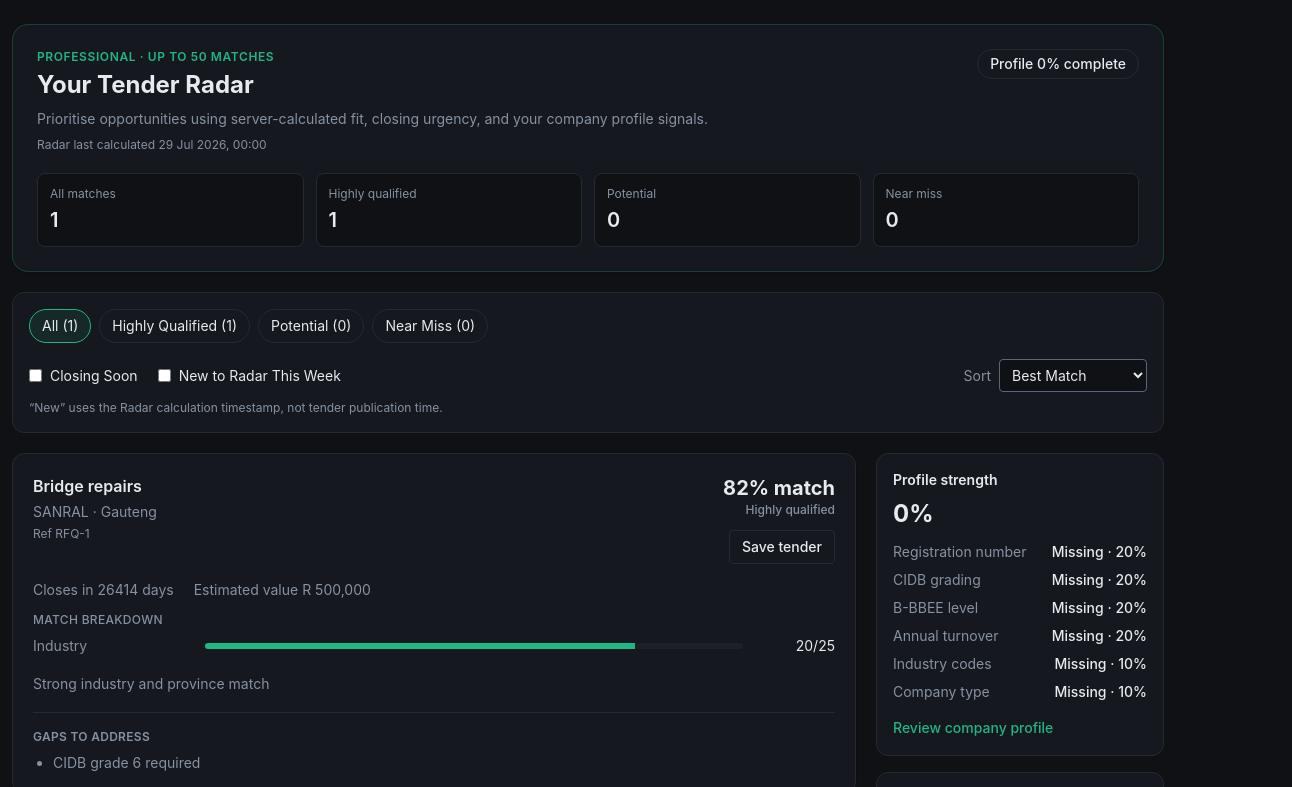
Test: Tender Radar screen › keeps the known saved state when a toggle fails
What coordinates should you click on to do the following:
click the button with aria-label "save bridge repairs"
I would click on:
 (782, 547)
Its box is [729,530,835,564].
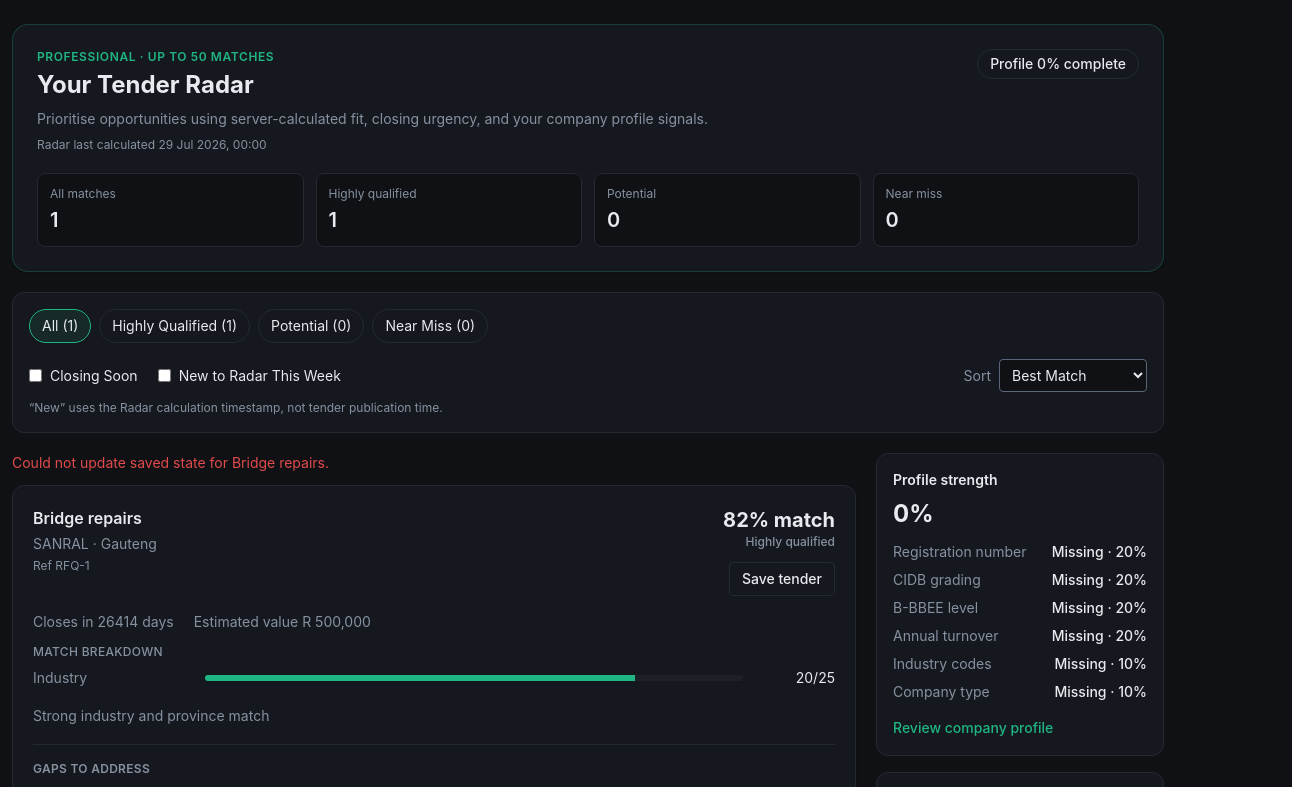
Expected: the button with aria-label "save bridge repairs" is shown, [729,562,835,596]
Expected: the message shows "Could not update saved state", [12,454,329,471]
